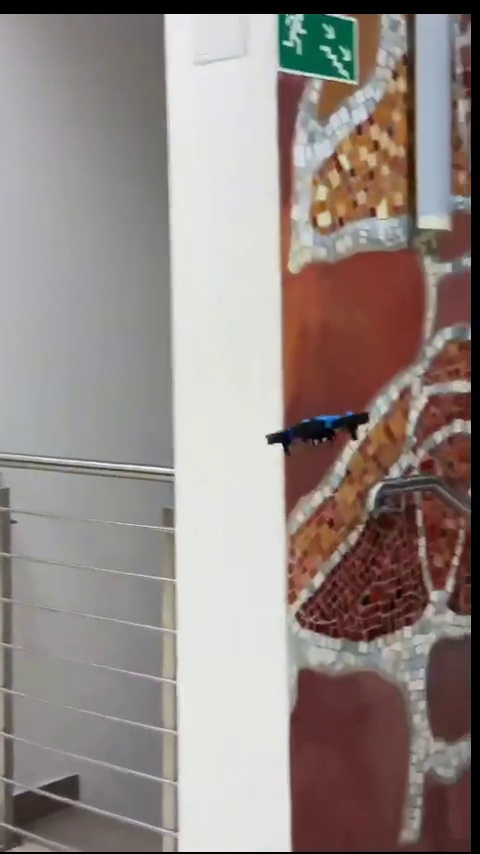drone: (262, 417, 367, 446)
